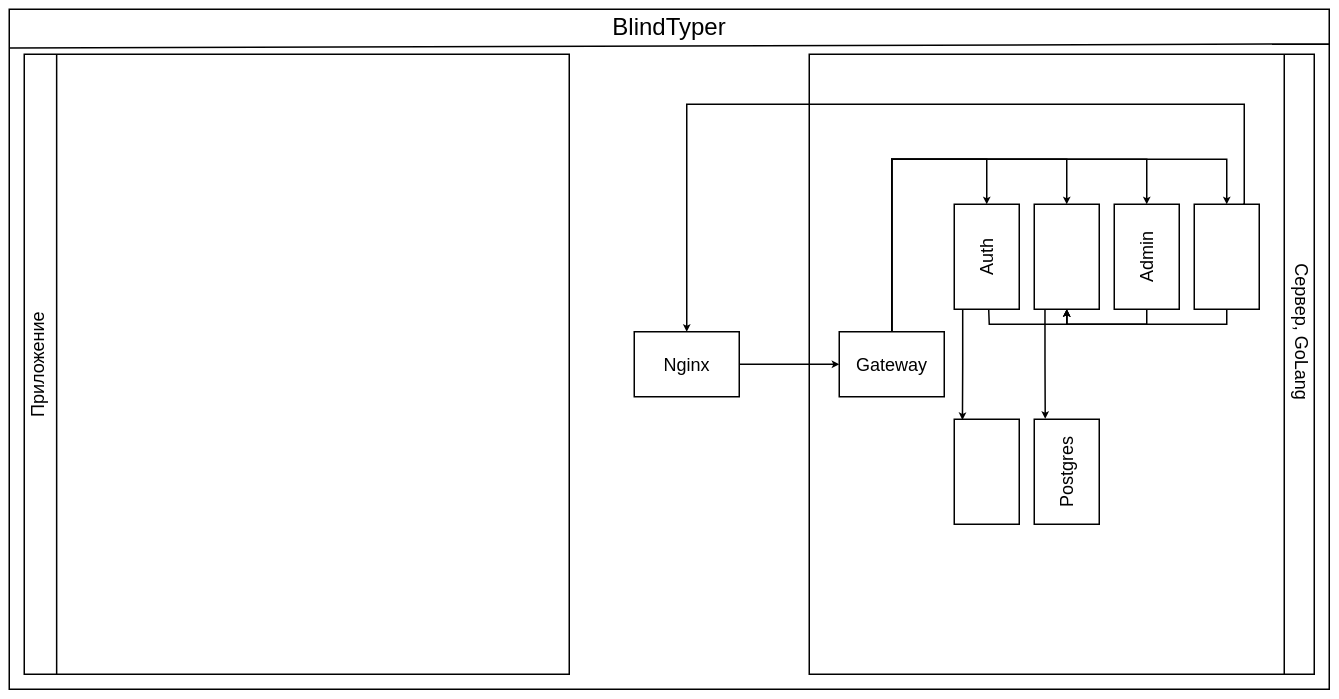
Image size: 1339x699. Some labels were removed from this diagram. Here are the shapes that lost their labels. From the top down, the centre of each, then its label:
At [1066,256]: "Data*".
At [1226,256]: "Game".
At [986,471]: "Redis".
